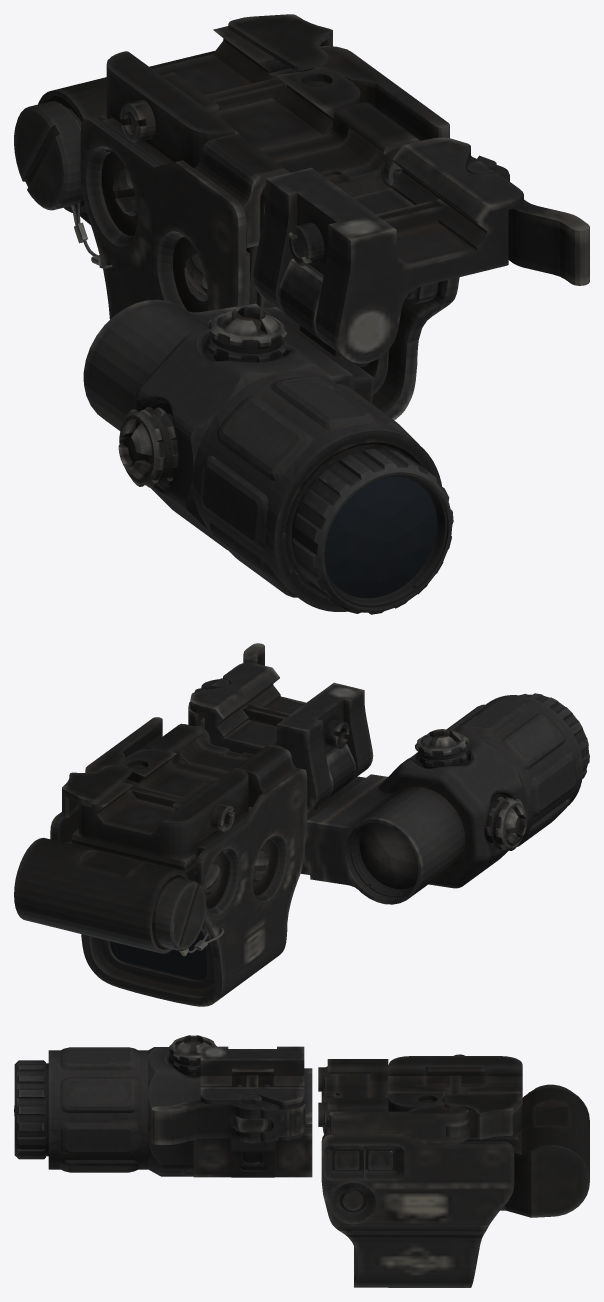
3 views of the same model, one above another, from view 1: azimuth 30°, elevation 25°; view 2: azimuth 150°, elevation 25°; view 3: azimuth 270°, elevation 25° (orthographic). The views are drawn at different scales.
Visible parts, largest first — view 1: TW_5c07dd120db834001c39092d_mode1_PZ_Import; view 2: TW_5c07dd120db834001c39092d_mode1_PZ_Import; view 3: TW_5c07dd120db834001c39092d_mode1_PZ_Import.
Part boxes in pixels (x1,y1,x2,y2): TW_5c07dd120db834001c39092d_mode1_PZ_Import: [14, 14, 589, 614]; TW_5c07dd120db834001c39092d_mode1_PZ_Import: [14, 643, 589, 1006]; TW_5c07dd120db834001c39092d_mode1_PZ_Import: [14, 1035, 589, 1287].
Bounding box in the file's own units: 0.06 × 0.111 × 0.0415.
1 material, 1 textured.
